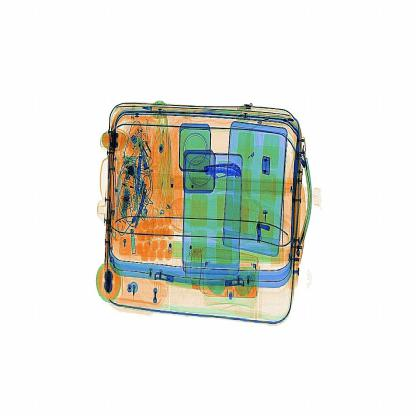knife: (197, 150, 251, 193)
